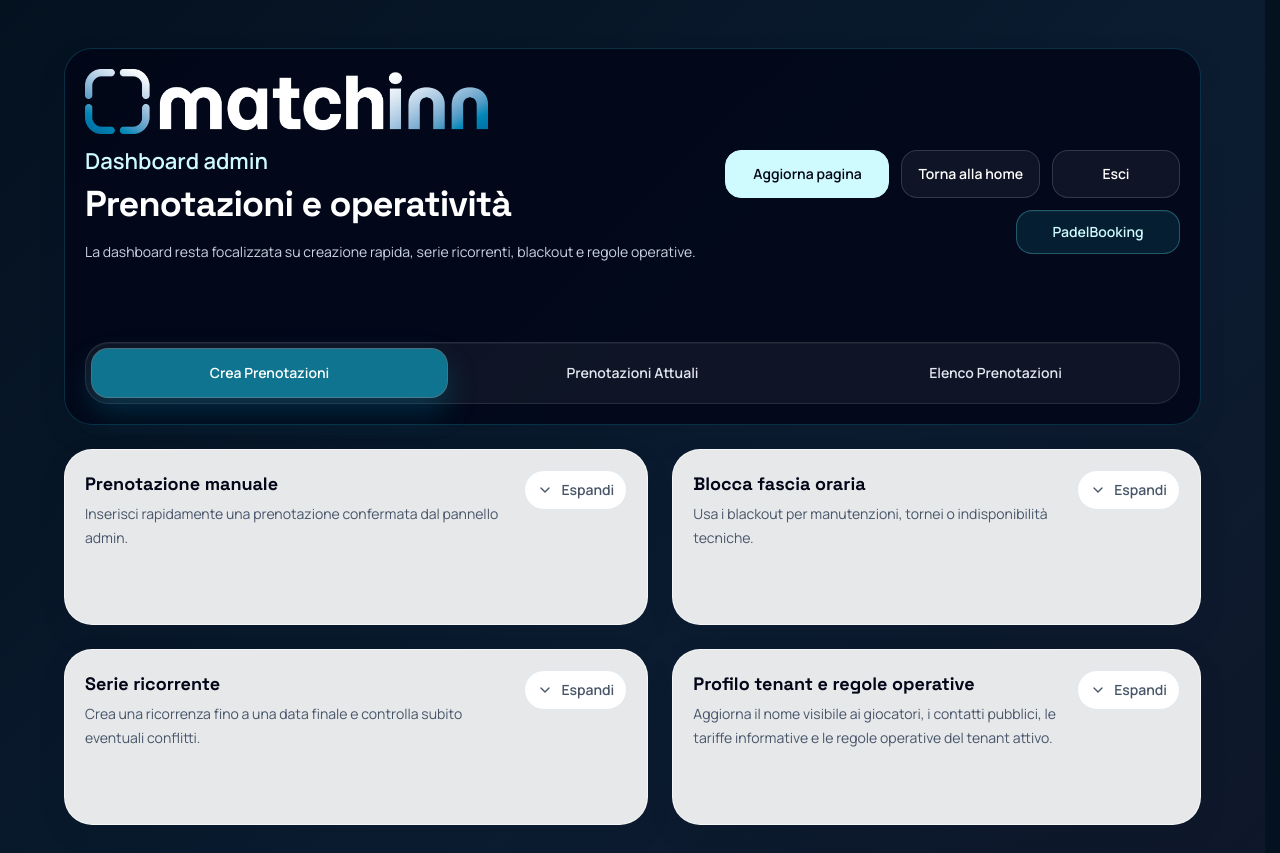
AdminDashboardPage › filters and searches community invites by status, name and phone
Expected: the text "Dashboard admin" is shown, [85,146,268,176]
Click the button with aria-label "Espandi Profilo tenant e regole operative": (1129, 690) [1077,670,1180,710]
(page scrolled)
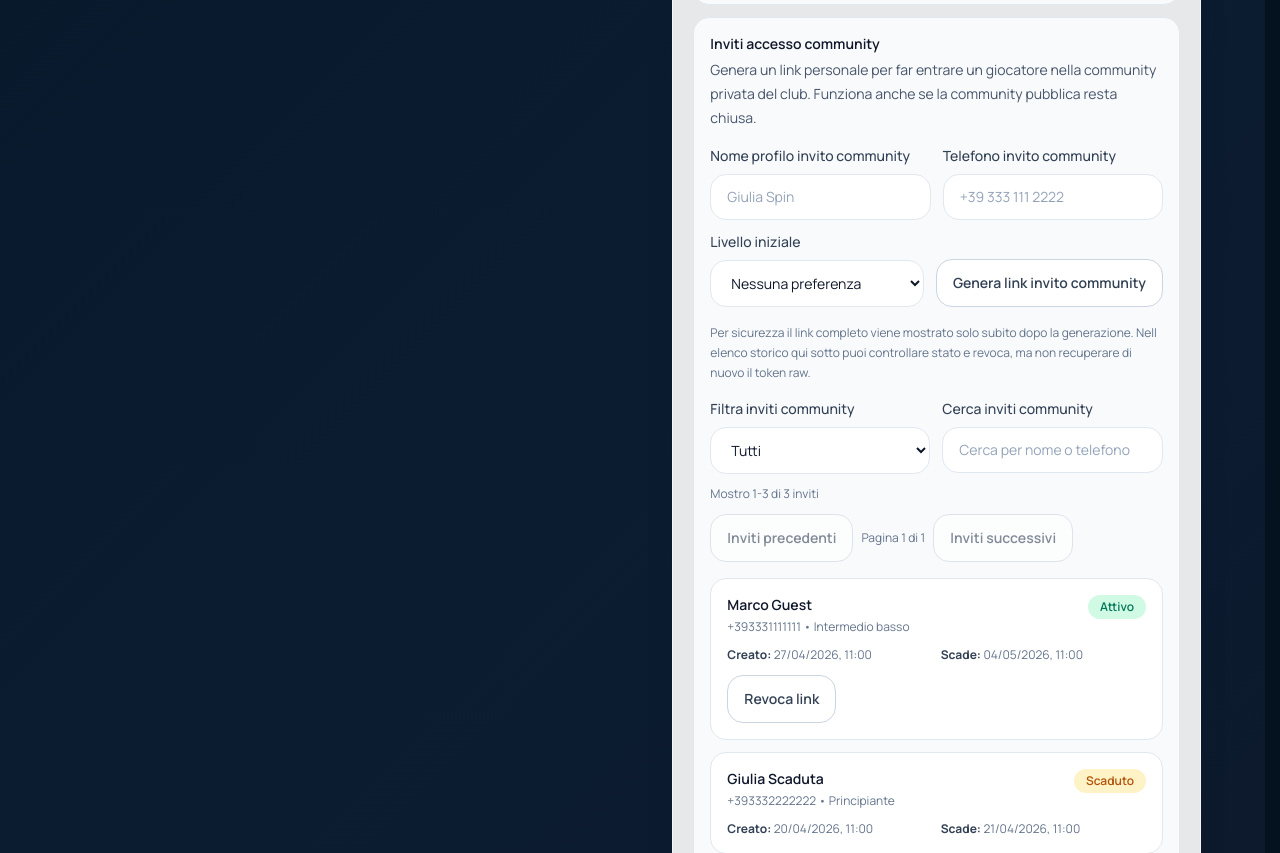
Select "Revocato" in the dropdown labelled "Filtra inviti community": (820, 450) [710,427,930,474]
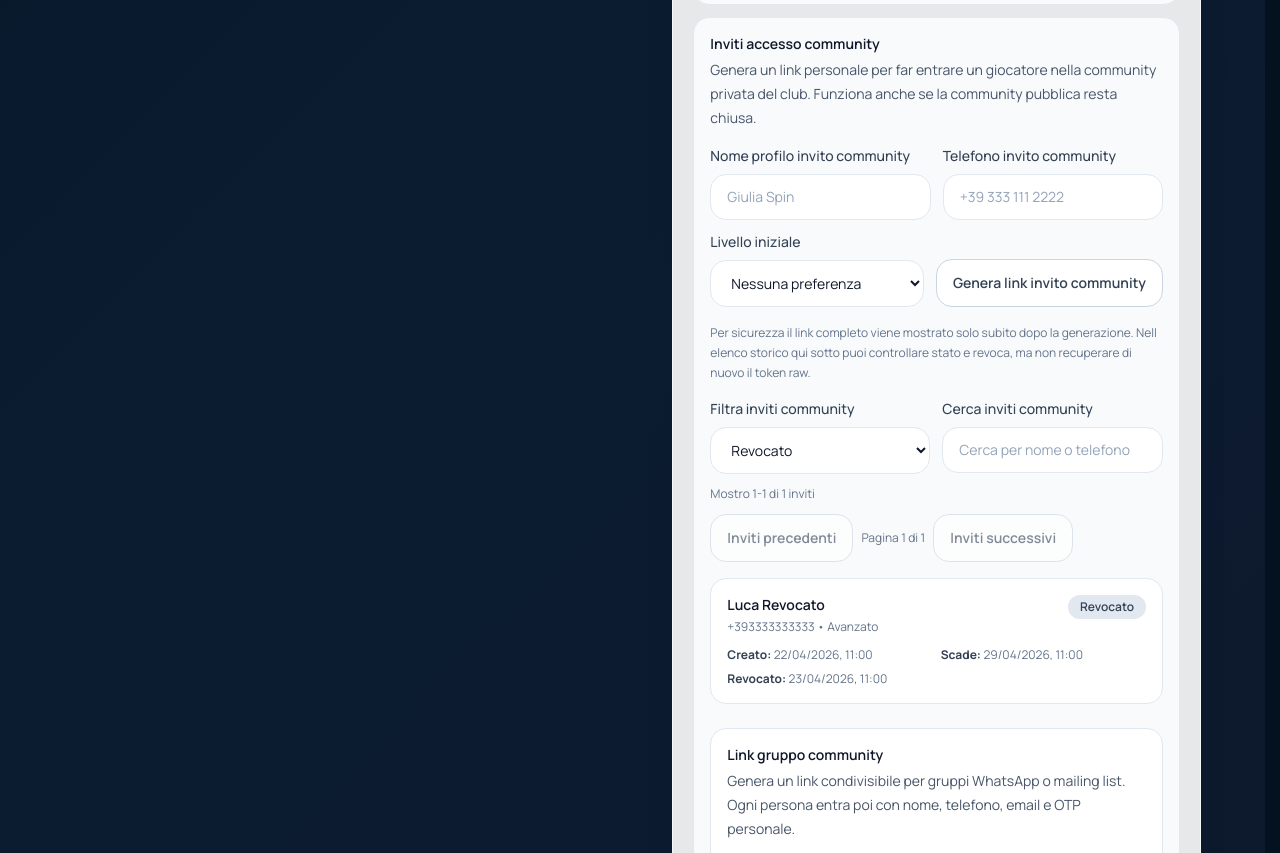
Result: the text "Luca Revocato" is shown at [727,595,825,614]
Result: the text "Marco Guest" is gone
Result: the text "Giulia Scaduta" is gone
Select "Tutti" in the dropdown labelled "Filtra inviti community": (820, 450) [710,427,930,474]
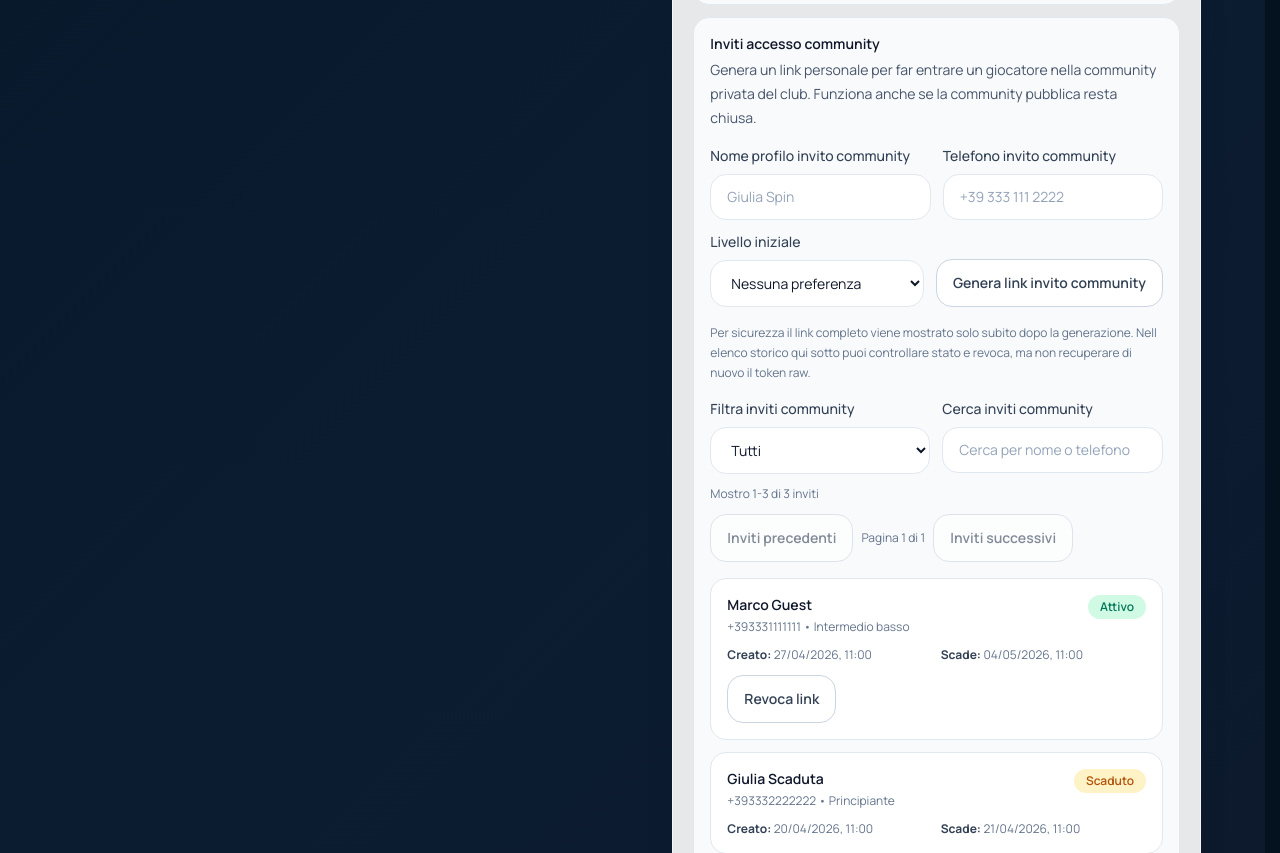
In the field labelled "Cerca inviti community": (1053, 450) [942,427,1163,473], type "Giulia"
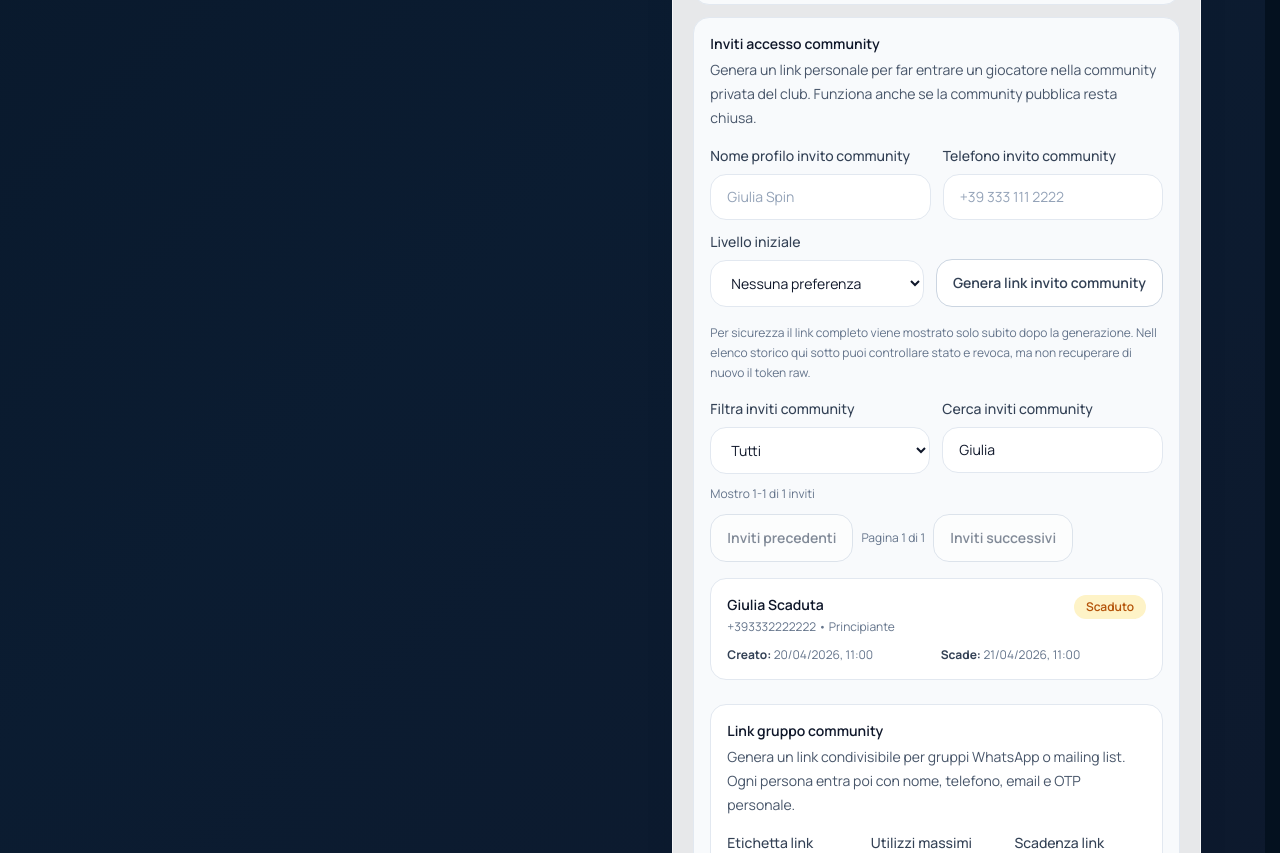
Result: the text "Giulia Scaduta" is shown at [727,595,824,614]
Result: the text "Marco Guest" is gone
Replace the text in the field labelled "Cerca inviti community" with "3333333333": (1053, 450) [942,427,1163,473]
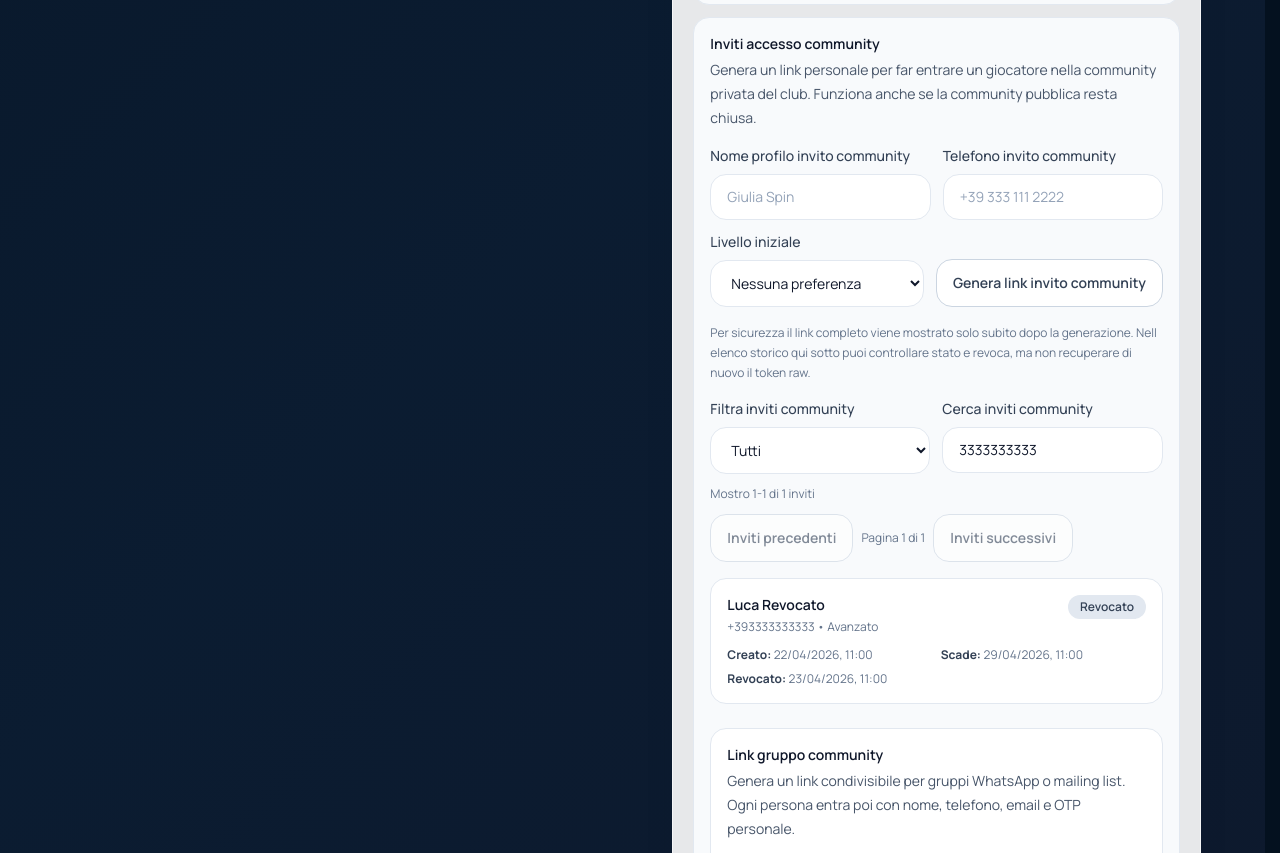
Result: the text "Luca Revocato" is shown at [727,595,825,614]
Result: the text "Giulia Scaduta" is gone
